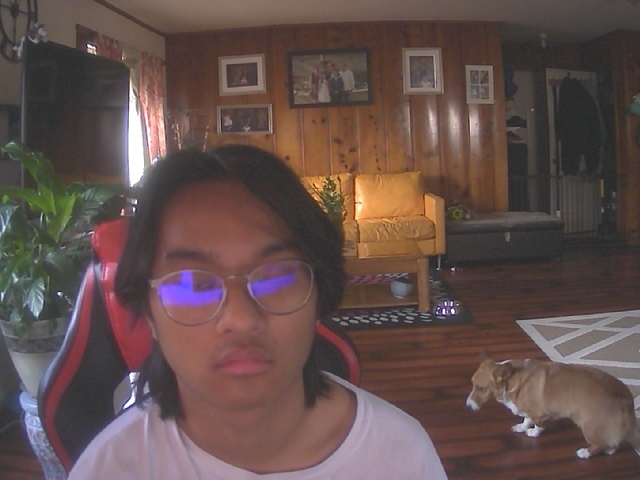neutral: (130, 153, 328, 415)
